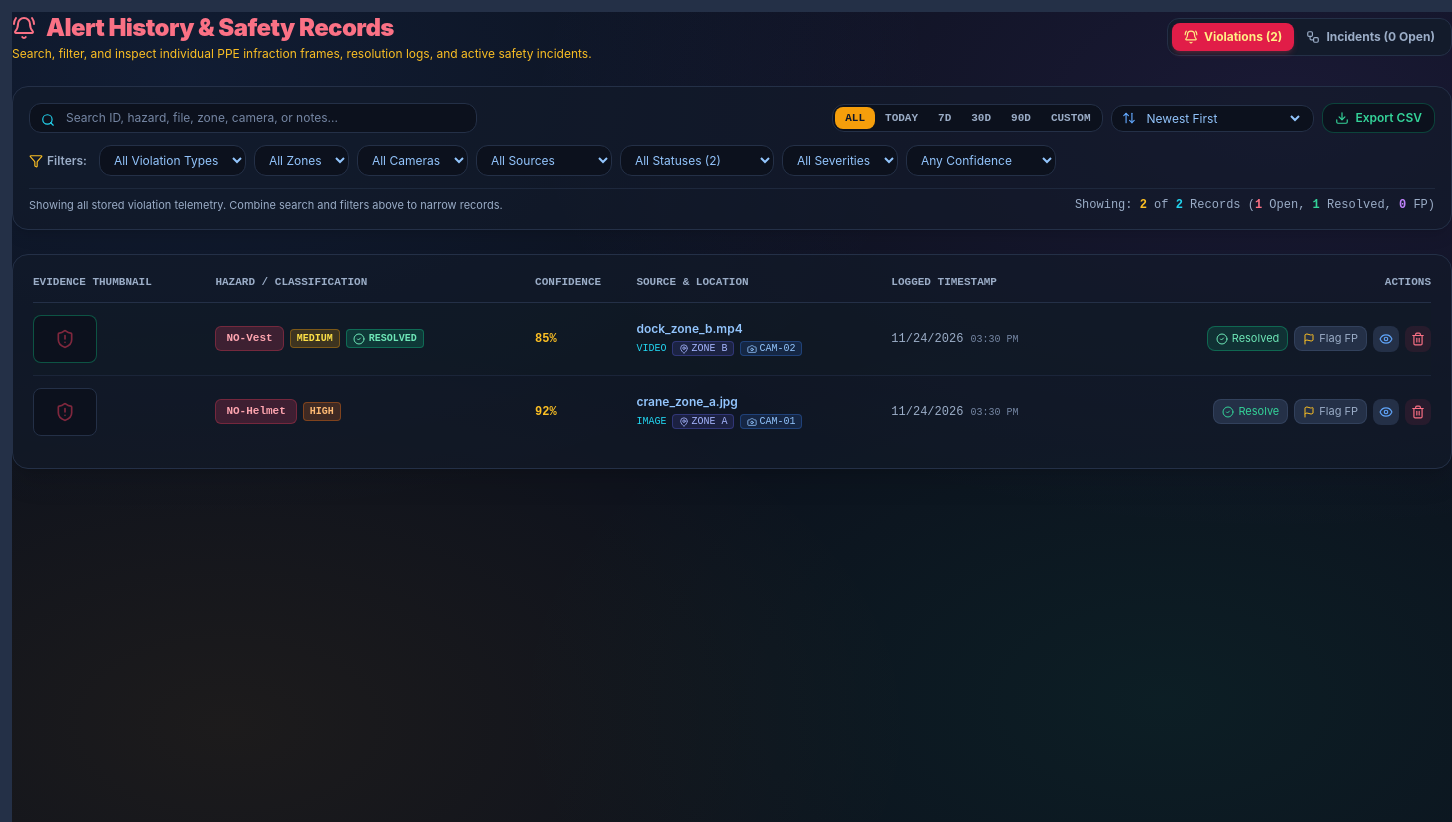
UI Component & RBAC Integration Tests › filters and searches safety violation records on AlertsPage and resets cleanly
This screenshot has width=1452, height=822.
Expected: the text "crane_zone_a.jpg" is shown, [636,394,738,409]
Expected: the text "dock_zone_b.mp4" is shown, [636,321,743,336]
// Search by camera + zone
Type "CAM-01" into the field named "Search safety violation records" at (253,118), box [29,103,477,133]
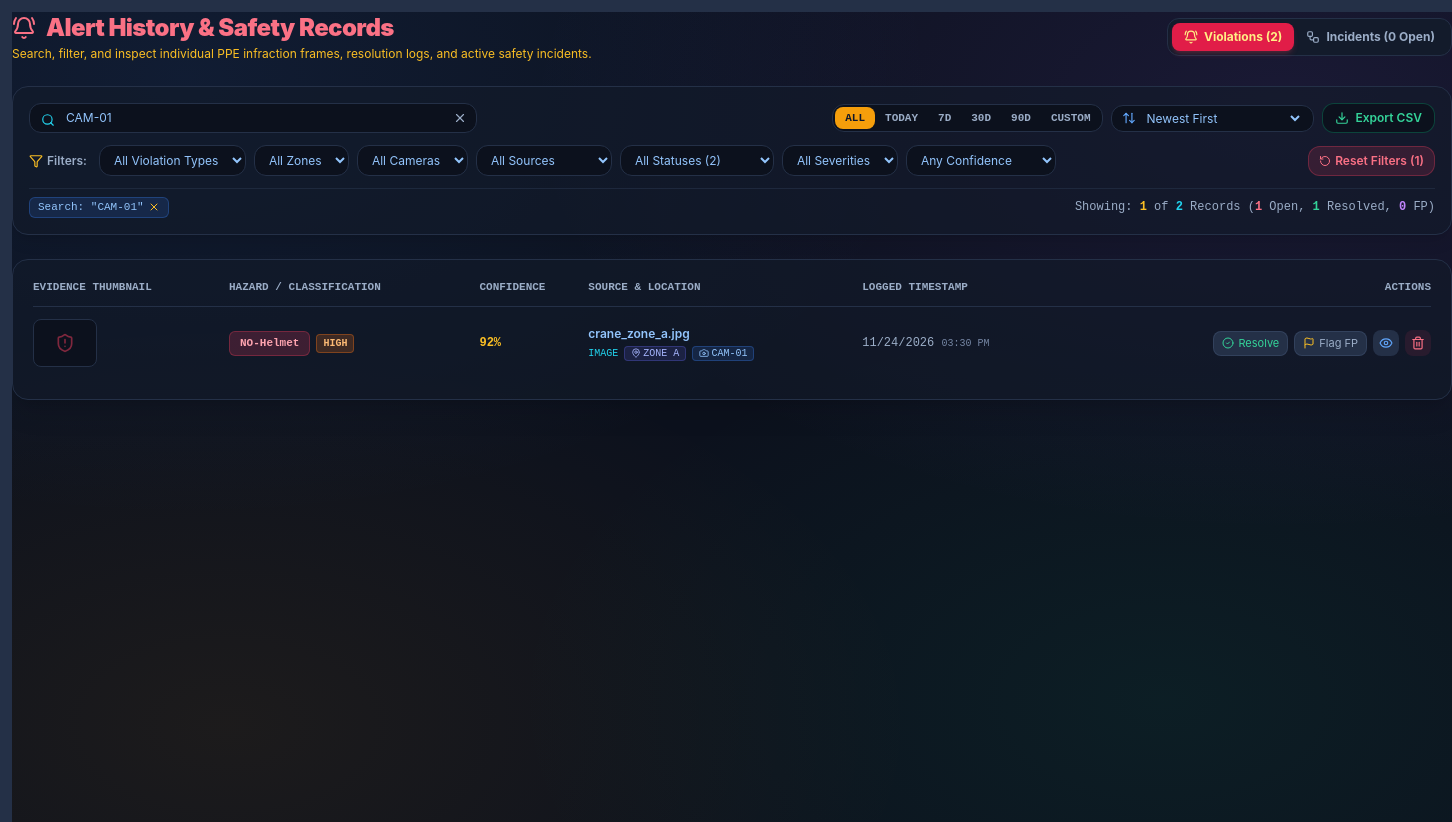
Expected: the text "crane_zone_a.jpg" is shown, [588,326,690,341]
Expected: the text "dock_zone_b.mp4" is gone
Select "Resolved Only (1)" in the dropdown named "Filter by status" at (697,160), box [620,145,774,176]
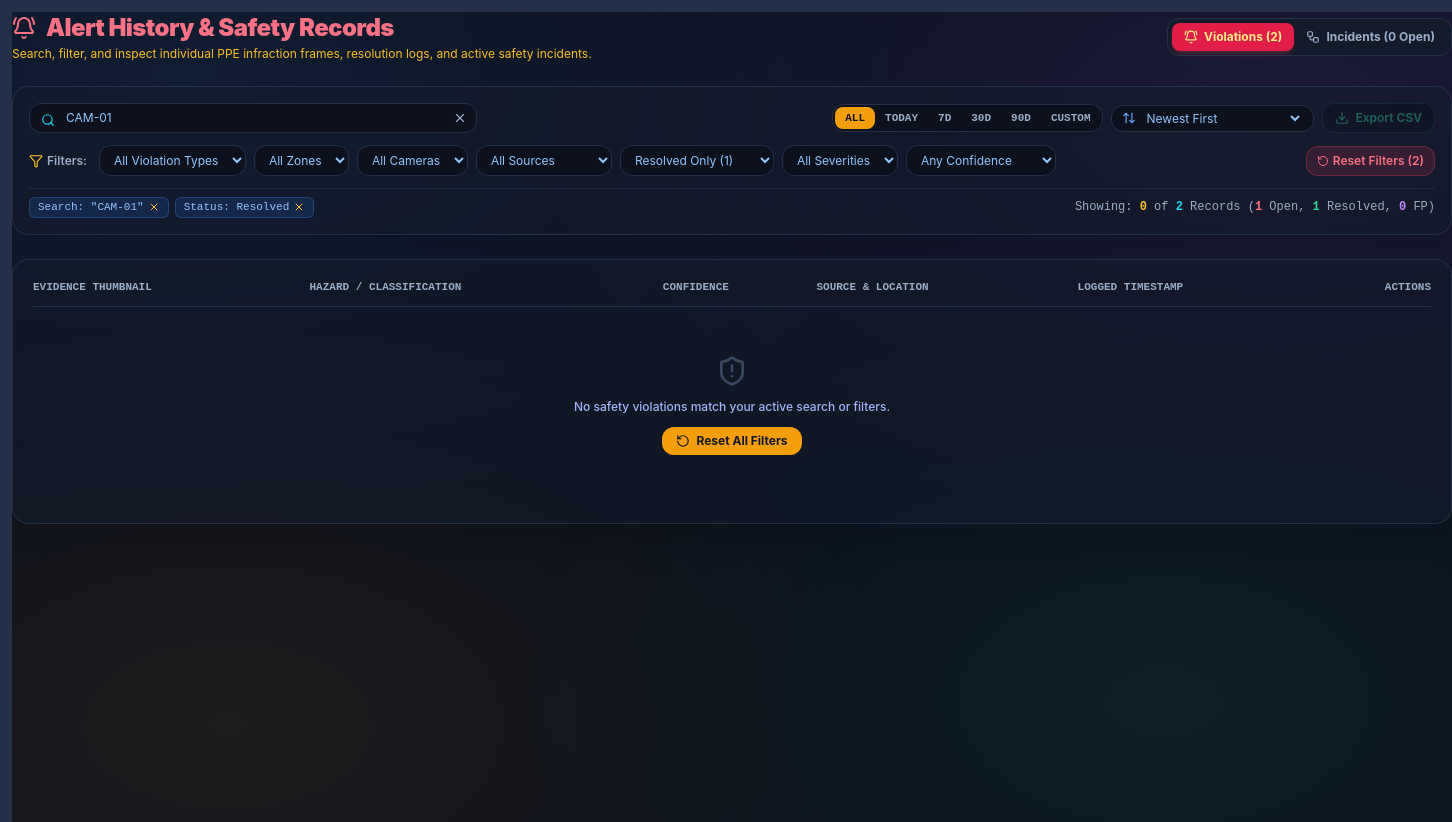
Expected: the text "No safety violations match your active search or filters." is shown, [574,399,890,414]
Click the button "Reset All Filters" at (732,441), box [662,427,802,455]
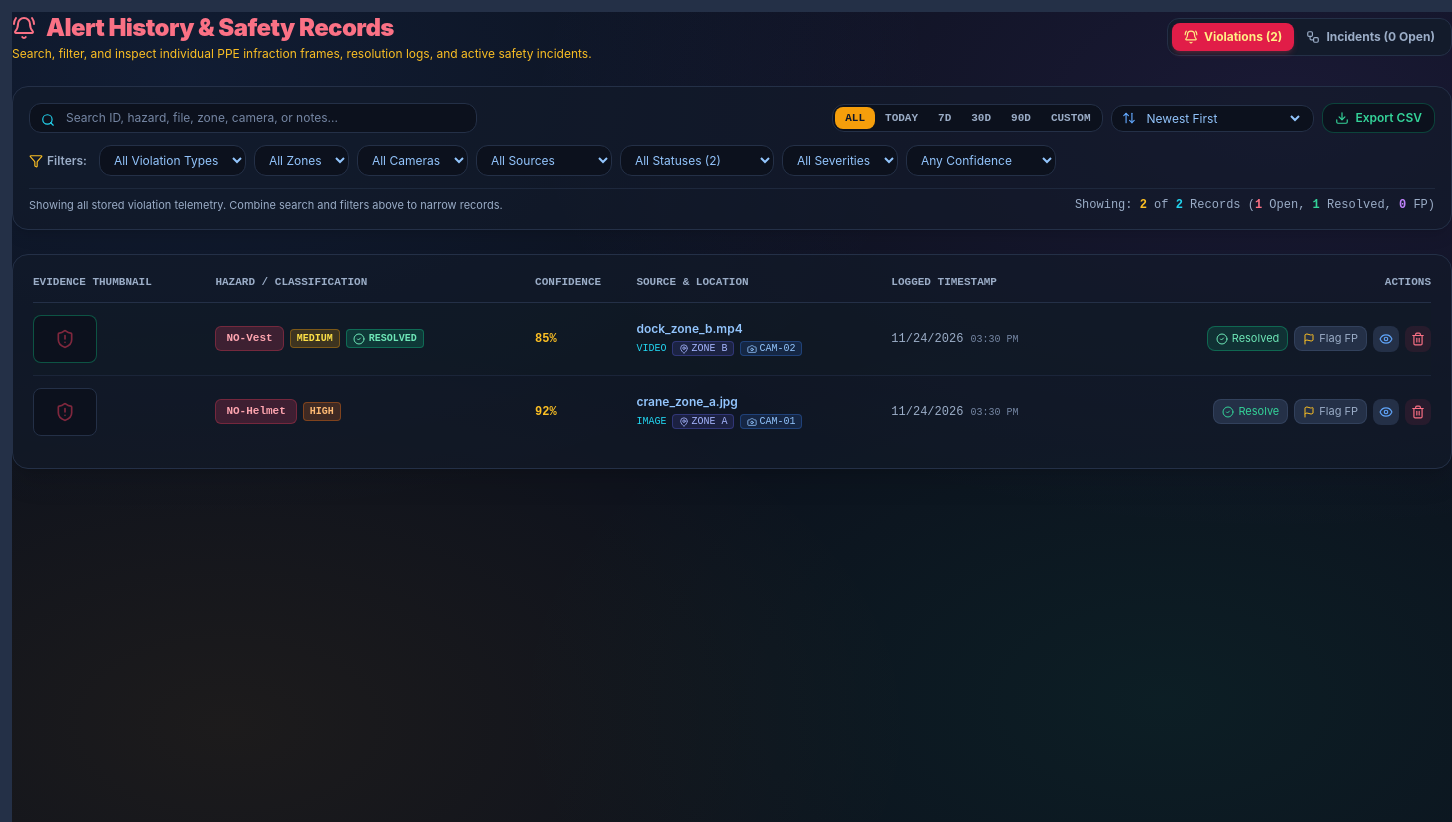
Expected: the text "crane_zone_a.jpg" is shown, [636,394,738,409]
Expected: the text "dock_zone_b.mp4" is shown, [636,321,743,336]
